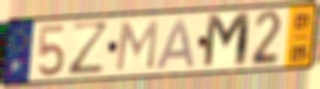2: (250, 8, 284, 70)
5: (35, 22, 67, 79)
A: (153, 17, 197, 71)
M: (200, 10, 253, 72), (113, 18, 160, 73)
Z: (67, 20, 113, 79)
